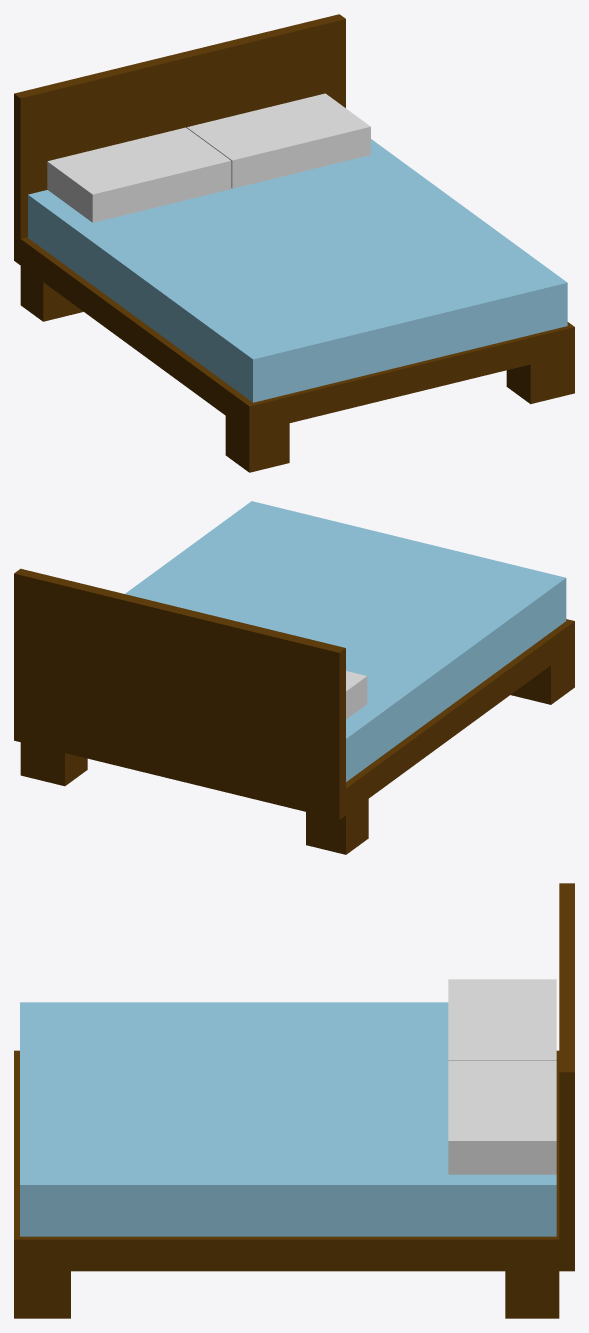
The model's file is cama.fbx.
The picture shows the model from 3 angles, top to bottom: view 1: azimuth 30°, elevation 25°; view 2: azimuth 150°, elevation 25°; view 3: azimuth 270°, elevation 25°; orthographic projection. The views are drawn at different scales.
Visible parts, largest first — view 1: Cubo.001, Cubo, Cubo.002, Cubo.003; view 2: Cubo, Cubo.001, Cubo.002; view 3: Cubo.001, Cubo, Cubo.003, Cubo.002.
Part boxes in pixels (left/top/right/bottom): Cubo.001: left=28, top=139, right=567, bottom=402; Cubo: left=14, top=14, right=574, bottom=472; Cubo.002: left=47, top=127, right=231, bottom=222; Cubo.003: left=187, top=93, right=370, bottom=188; Cubo: left=14, top=568, right=574, bottom=854; Cubo.001: left=125, top=501, right=566, bottom=781; Cubo.002: left=346, top=671, right=367, bottom=719; Cubo.001: left=20, top=1002, right=556, bottom=1236; Cubo: left=14, top=883, right=574, bottom=1318; Cubo.003: left=448, top=1060, right=556, bottom=1174; Cubo.002: left=448, top=979, right=556, bottom=1060.
Size of the model in its own units: 164 by 99.74 by 206.
